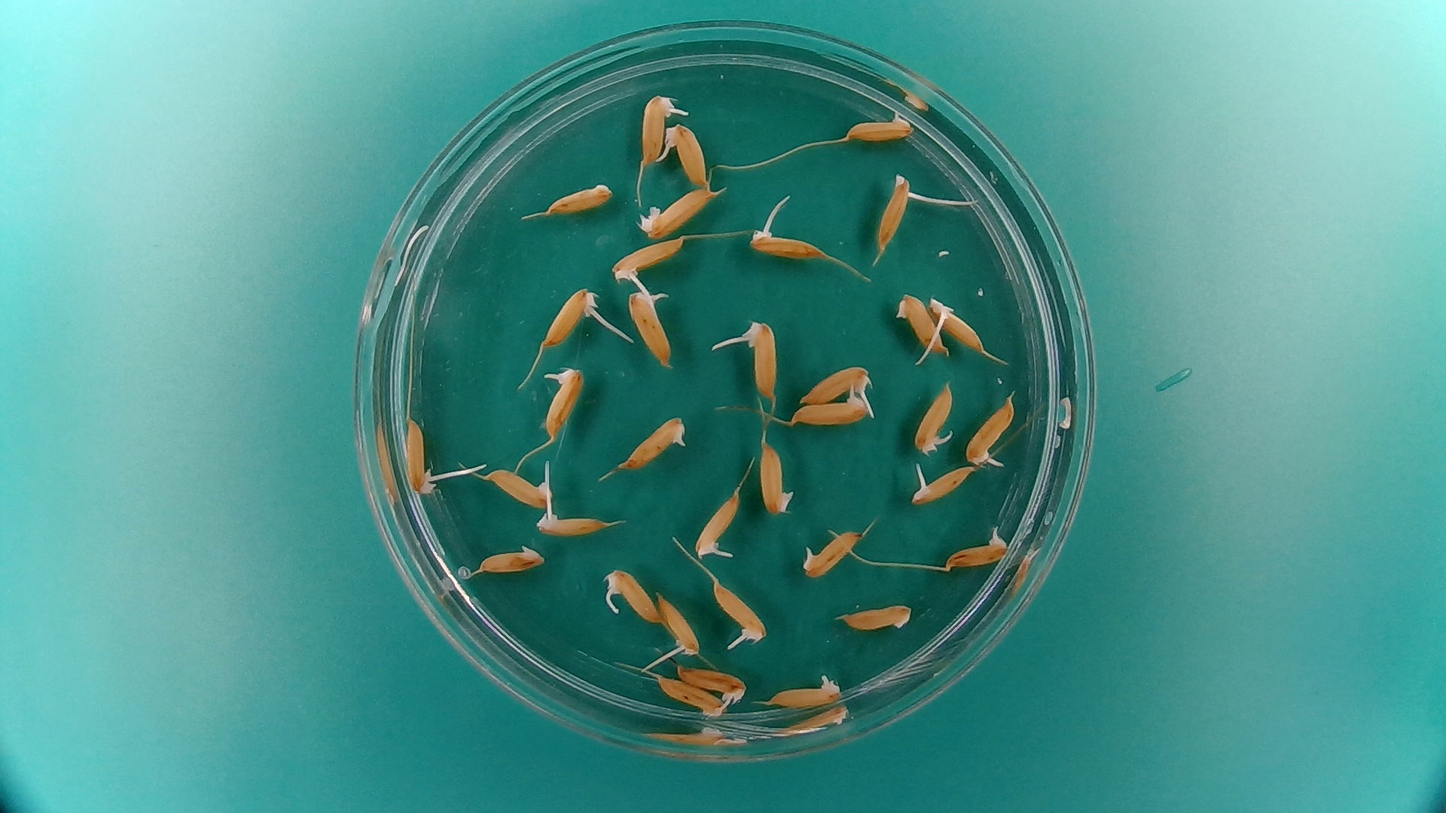no: (636, 185, 719, 241), (892, 288, 948, 358), (651, 674, 725, 720), (758, 439, 796, 519), (471, 539, 549, 577), (546, 177, 616, 218), (837, 600, 914, 634)
yes: (624, 282, 676, 368), (744, 213, 830, 263), (873, 169, 921, 257), (541, 285, 606, 349), (537, 361, 587, 444), (964, 393, 1017, 470), (618, 413, 689, 470), (711, 577, 767, 647), (602, 564, 663, 627), (930, 293, 991, 355), (636, 89, 683, 166), (795, 360, 877, 404), (692, 487, 742, 559), (612, 236, 688, 283), (400, 414, 442, 498), (791, 388, 877, 429), (801, 525, 864, 580), (911, 379, 956, 456), (740, 320, 782, 400), (764, 671, 845, 711), (664, 122, 711, 190), (674, 662, 749, 704), (532, 502, 613, 540), (486, 464, 554, 509), (943, 527, 1012, 571), (908, 461, 976, 505), (842, 105, 917, 144), (658, 592, 702, 657)
